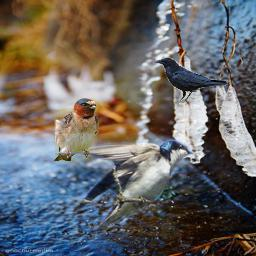Crow: (153, 57, 229, 105)
Swallow: (64, 138, 194, 237), (53, 98, 100, 162)
